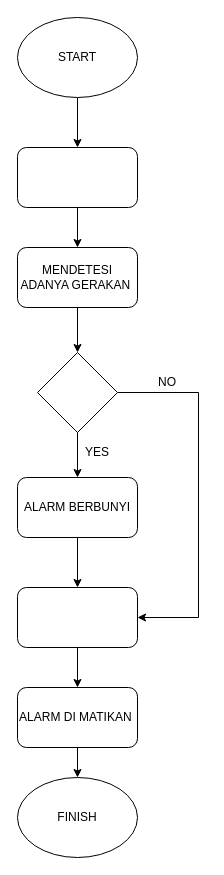
The diagram is 224 pixels wide and 875 high, and some of its shapes have lost their labels. The shapes that lost their labels are listed below. From the top down, each one's centre as x and y in pixels, then its label:
pixel 77 177: ALARM DI NYALAKAN
pixel 77 617: KIRIM NOTIFIKASI
